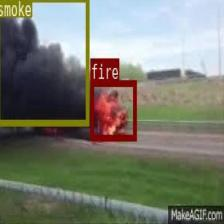fire: (90, 79, 136, 139)
smoke: (0, 0, 88, 124)
